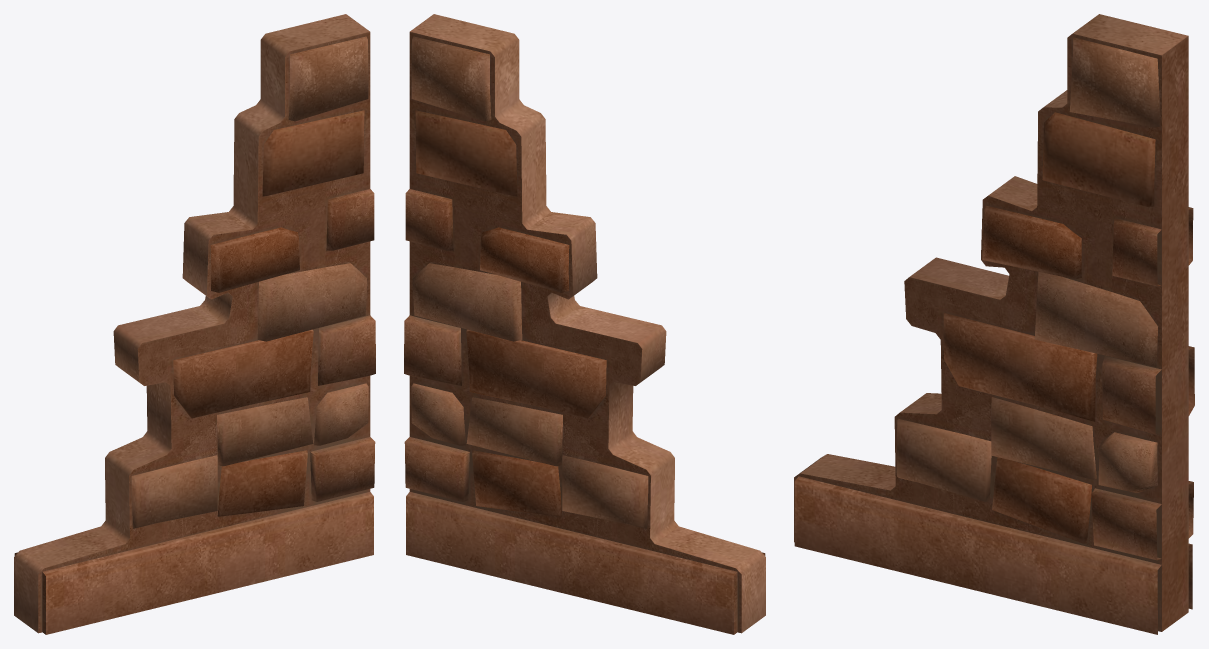
Rendered from wall_destroy_02.glb.
The picture shows the model from 3 angles, left to right: view 1: azimuth 30°, elevation 25°; view 2: azimuth 150°, elevation 25°; view 3: azimuth 330°, elevation 25°; orthographic projection. The views are drawn at different scales.
Visible parts, largest first — view 1: wall_destroy_02; view 2: wall_destroy_02; view 3: wall_destroy_02.
Part boxes in pixels (box(x1,y1,x2,y2)): wall_destroy_02: box(14, 14, 375, 634); wall_destroy_02: box(404, 14, 765, 634); wall_destroy_02: box(794, 14, 1194, 634).
Size of the model in its own units: 1.67 by 2.5 by 0.3097.
Materials: 1 (1 with a texture image).
